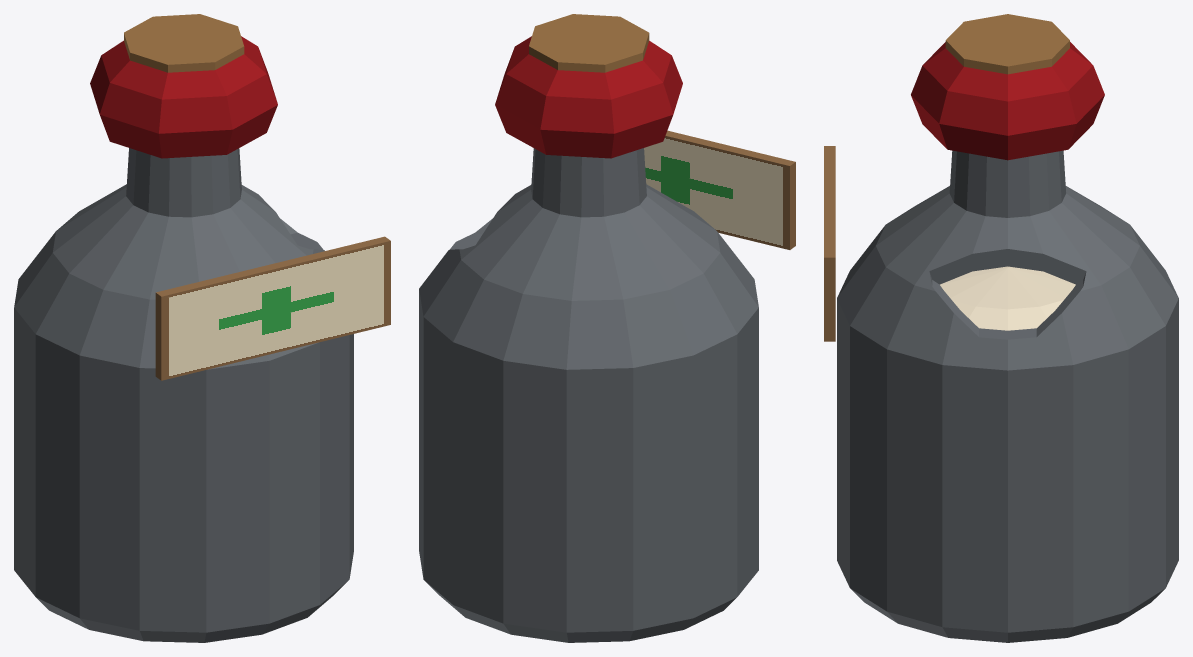
File: remedy.obj
3 views of the same model, side by side, from view 1: azimuth 30°, elevation 25°; view 2: azimuth 150°, elevation 25°; view 3: azimuth 270°, elevation 25° (orthographic).
Parts seen in each view (by area): view 1: A_Flask.001_remedy_glass, C_Label.001_remedy_label, S_Wax.001_remedy_wax, S_Cork.001_remedy_cork; view 2: A_Flask.001_remedy_glass, S_Wax.001_remedy_wax, C_Label.001_remedy_label, S_Cork.001_remedy_cork; view 3: A_Flask.001_remedy_glass, S_Wax.001_remedy_wax, A_Liquid.001_remedy_liquid, S_Cork.001_remedy_cork, C_Label.001_remedy_label.
Part boxes in pixels (x1,y1,x2,y2): A_Flask.001_remedy_glass: (14, 148, 353, 642); C_Label.001_remedy_label: (155, 236, 390, 380); S_Wax.001_remedy_wax: (90, 36, 277, 158); S_Cork.001_remedy_cork: (124, 14, 244, 72); A_Flask.001_remedy_glass: (419, 148, 758, 642); S_Wax.001_remedy_wax: (495, 36, 682, 158); C_Label.001_remedy_label: (644, 130, 795, 249); S_Cork.001_remedy_cork: (529, 14, 649, 72); A_Flask.001_remedy_glass: (837, 150, 1178, 642); S_Wax.001_remedy_wax: (911, 42, 1104, 160); A_Liquid.001_remedy_liquid: (940, 266, 1075, 330); S_Cork.001_remedy_cork: (945, 14, 1069, 74); C_Label.001_remedy_label: (824, 146, 835, 341).
Bounding box in the file's own units: 1.2 × 2.07 × 1.24.
Materials: 5 (1 with a texture image).
